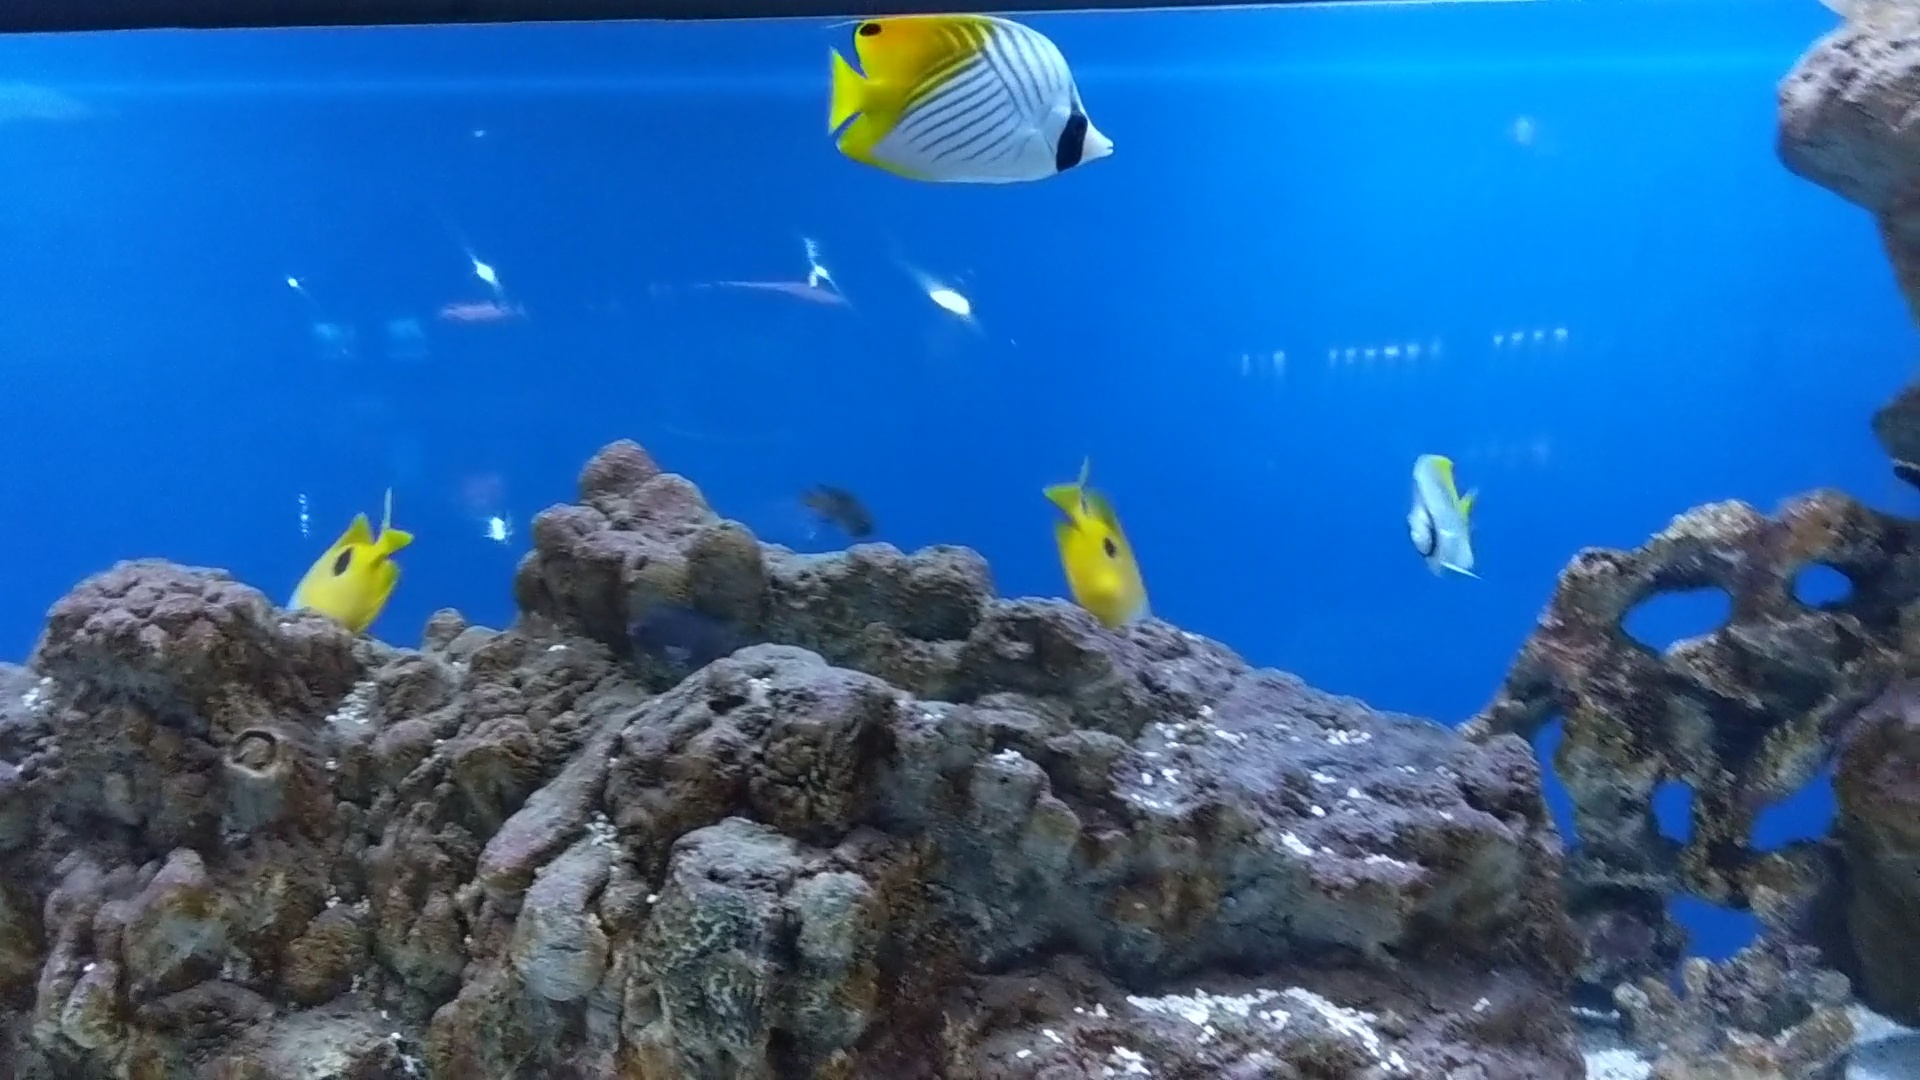butterflyfish: (808, 3, 1106, 170)
moorfish: (1369, 440, 1497, 592)
rabbitfish: (274, 491, 436, 634), (1040, 468, 1153, 626)
